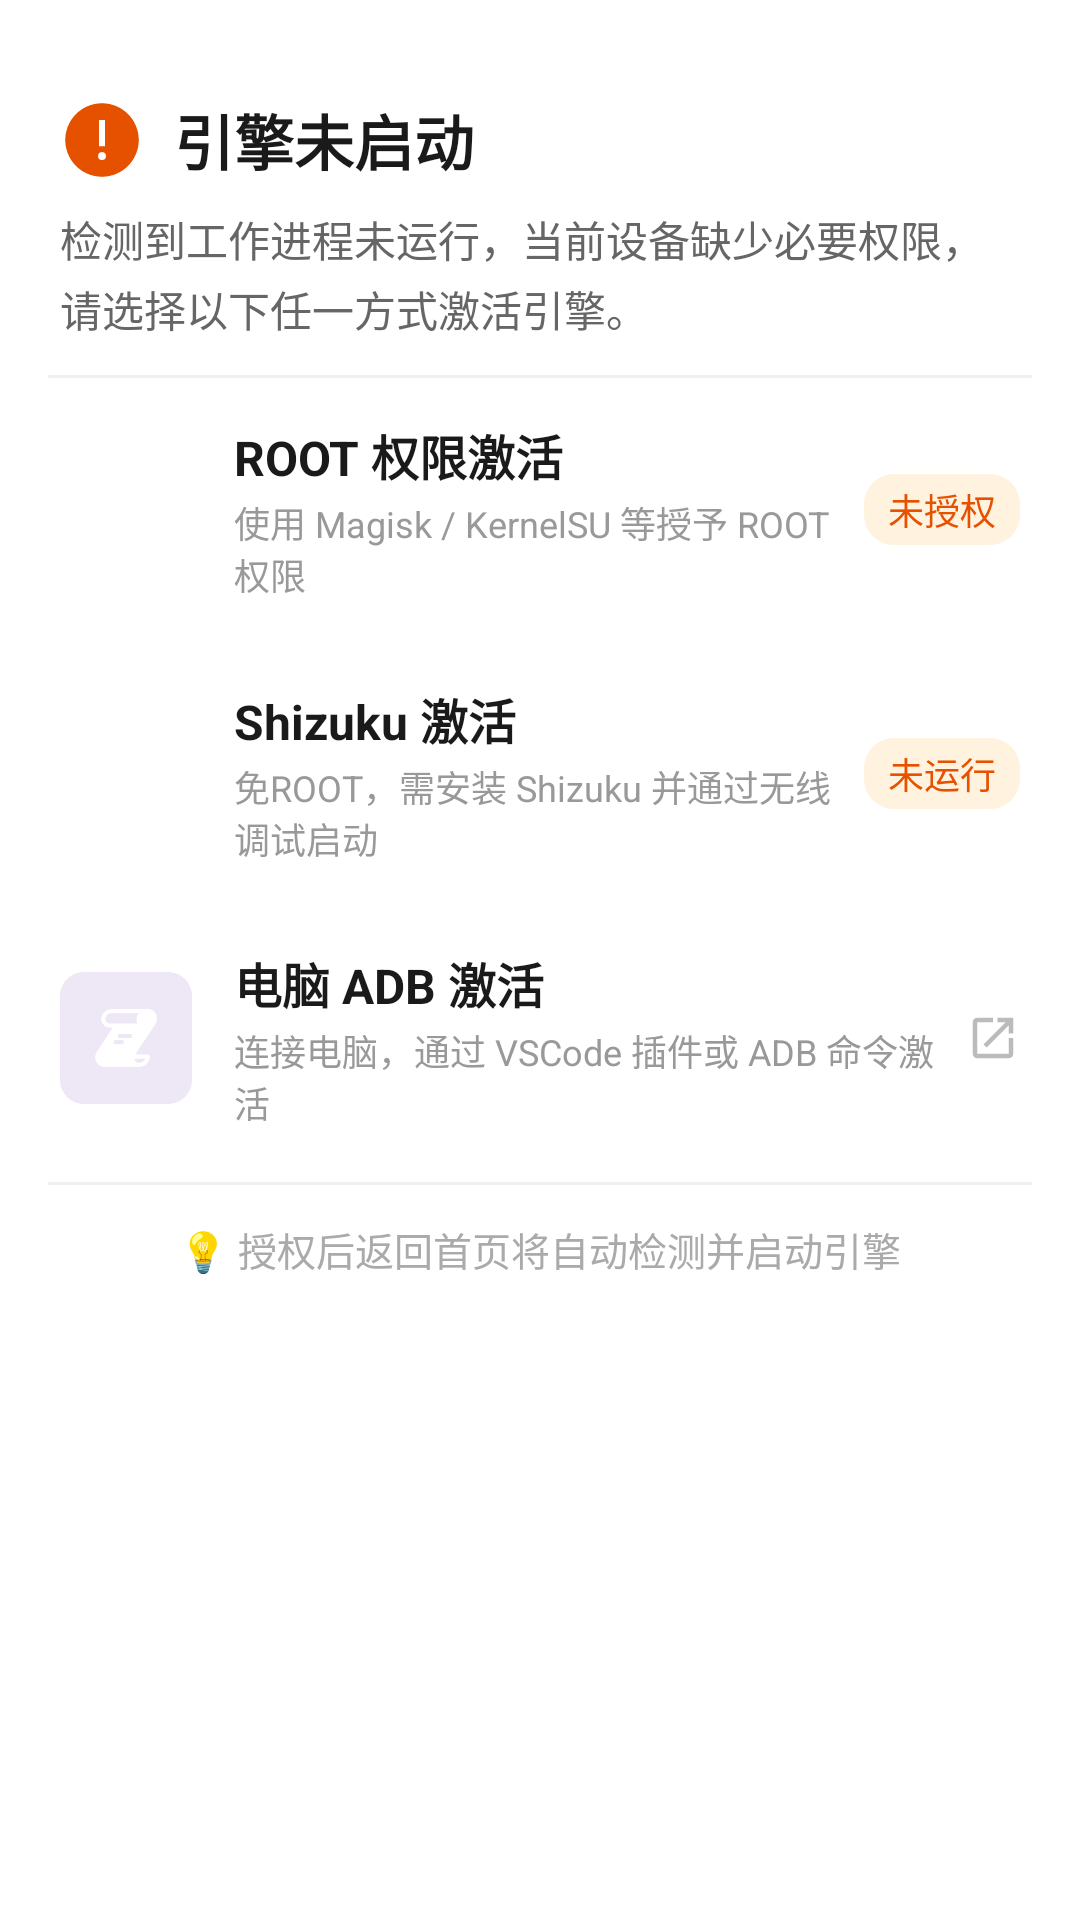

Point at icon controls on the screen. Image size 1080×1920, points as [x,y].
open in: [993,1038]
problem: [102,140]
